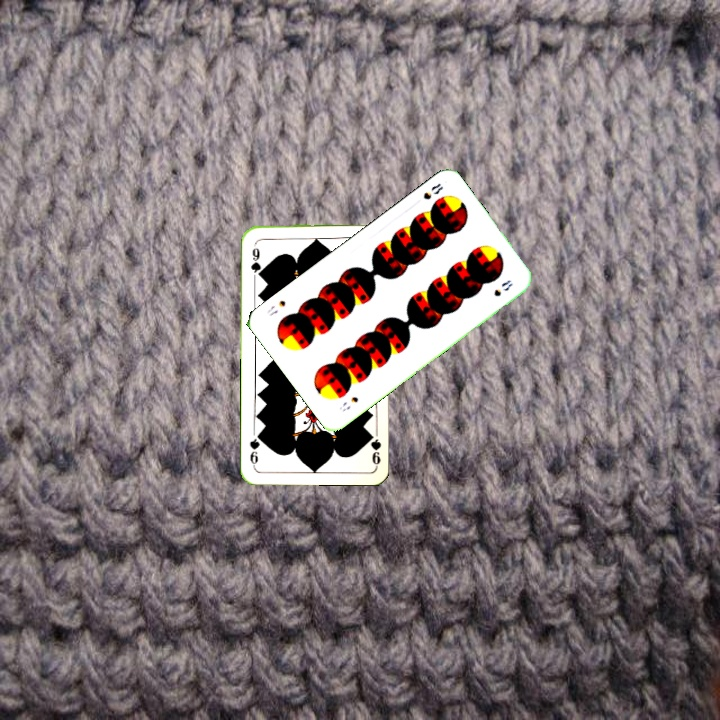G9: (364, 428, 383, 469), (247, 239, 264, 280)
S8: (419, 179, 446, 202), (335, 392, 361, 414)
